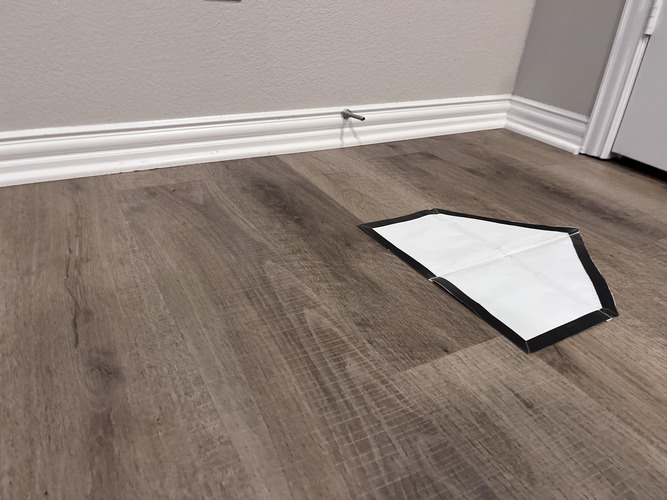homeplate: (357, 207, 617, 355)
